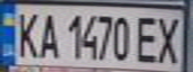0: (112, 12, 133, 62)
1: (63, 11, 84, 60)
4: (78, 10, 100, 61)
7: (96, 11, 115, 61)
A: (36, 9, 60, 60)
E: (133, 12, 163, 64)
K: (12, 8, 42, 60)
X: (154, 12, 187, 65)
